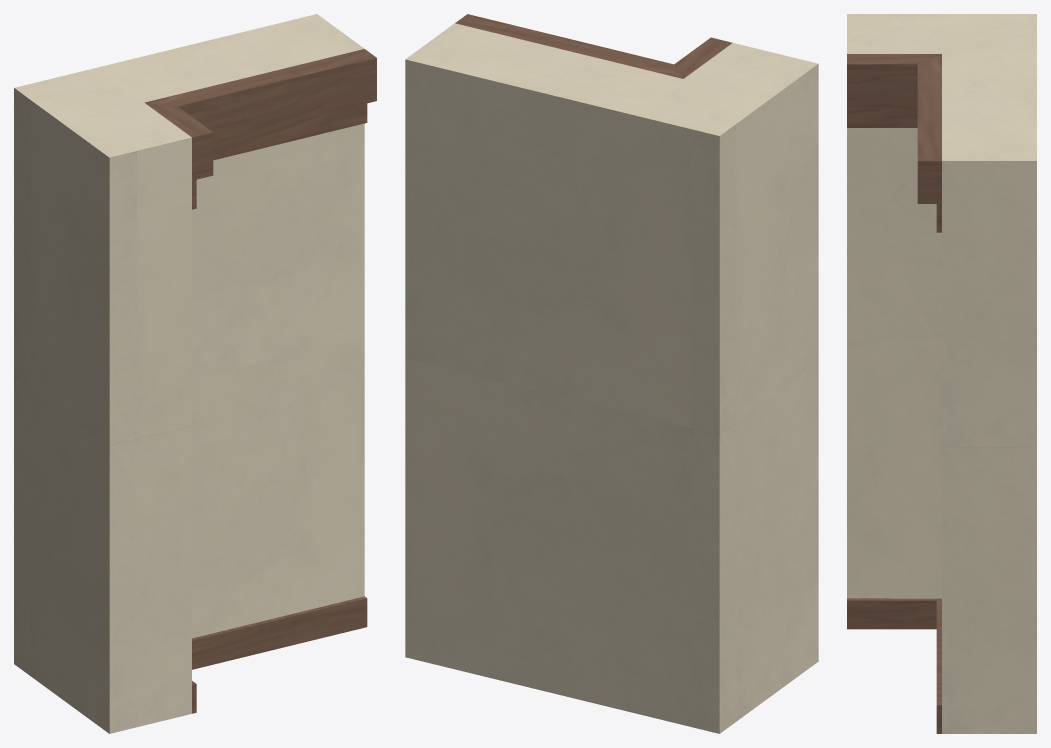
Rendered from LeftCornerWall.glb.
3 renders of one model, left to right at view 1: azimuth 30°, elevation 25°; view 2: azimuth 150°, elevation 25°; view 3: azimuth 270°, elevation 25°, orthographic. The views are drawn at different scales.
Visible parts, largest first — view 1: Left Corner Wall; view 2: Left Corner Wall; view 3: Left Corner Wall.
Boxes of the visible parts, <box> form: Left Corner Wall: <box>14,14,376,733</box>; Left Corner Wall: <box>405,14,818,733</box>; Left Corner Wall: <box>847,14,1036,733</box>.
Bounding box in the file's own units: 2.2 × 4 × 1.2.
1 material, 1 textured.
